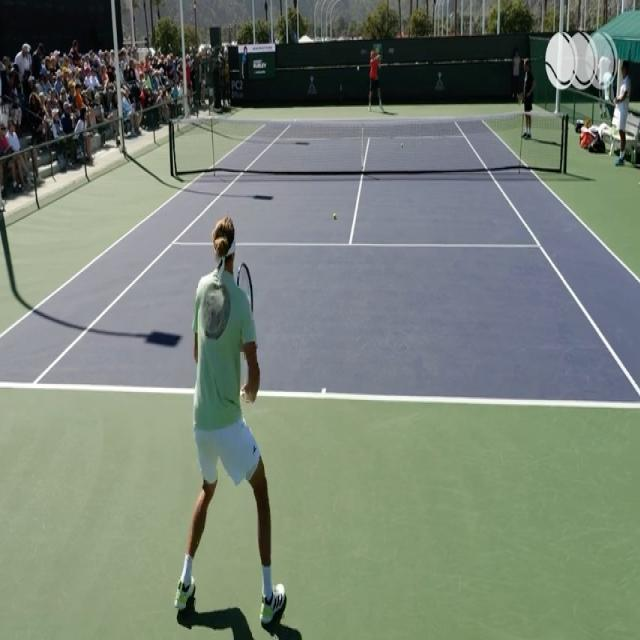ready-position: (177, 213, 286, 624)
